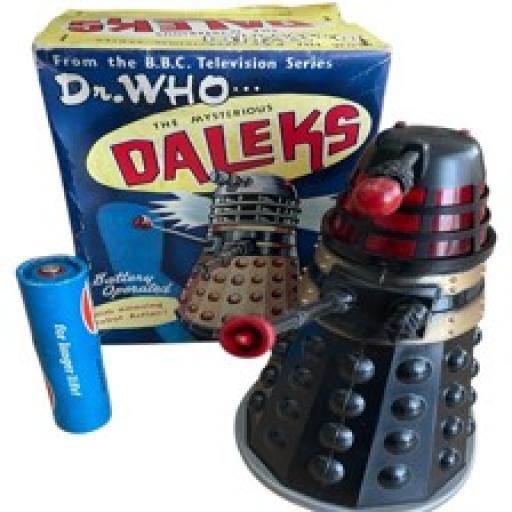dalek: (219, 116, 484, 512), (134, 163, 309, 328)
